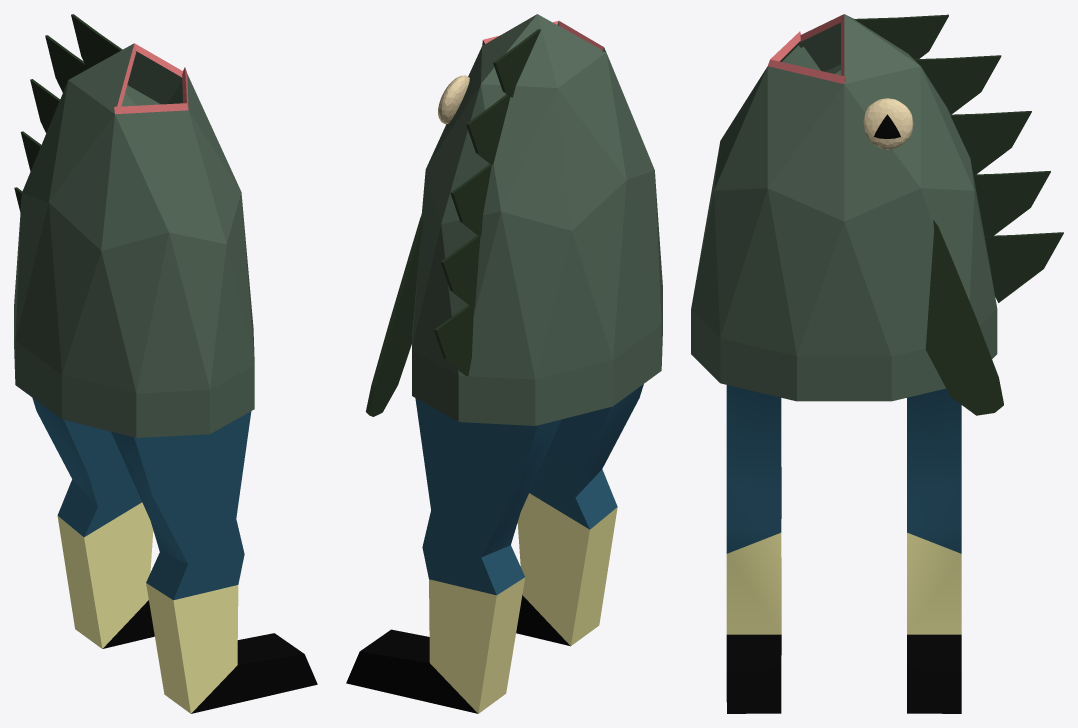
The model's file is Fishman.fbx.
The picture shows the model from 3 angles, left to right: view 1: azimuth 30°, elevation 25°; view 2: azimuth 150°, elevation 25°; view 3: azimuth 270°, elevation 25°; orthographic projection. The views are drawn at different scales.
Visible parts, largest first — view 1: FishmanModel; view 2: FishmanModel; view 3: FishmanModel.
Part boxes in pixels (<box>): FishmanModel: <box>14,14,317,713</box>; FishmanModel: <box>346,14,662,713</box>; FishmanModel: <box>691,14,1063,713</box>.
Bounding box in the file's own units: 169 × 460 × 243.
